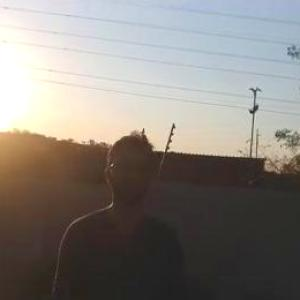follow: (47, 129, 203, 299)
